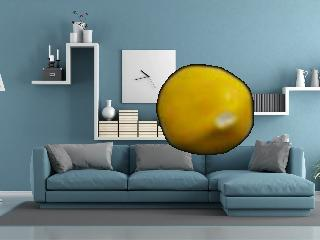lemon: (161, 63, 255, 153)
